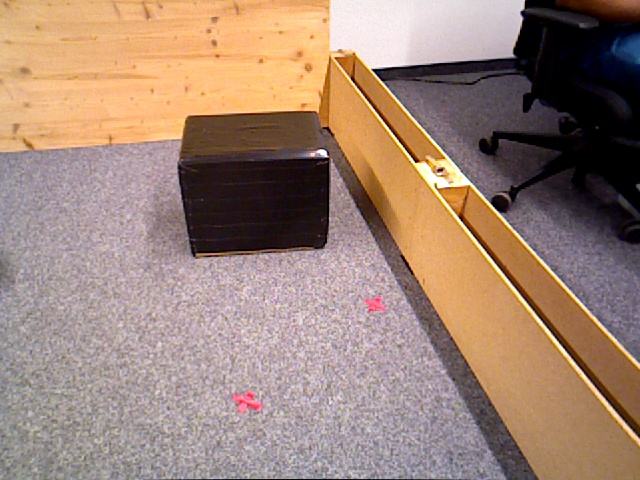push: (181, 115, 330, 253)
